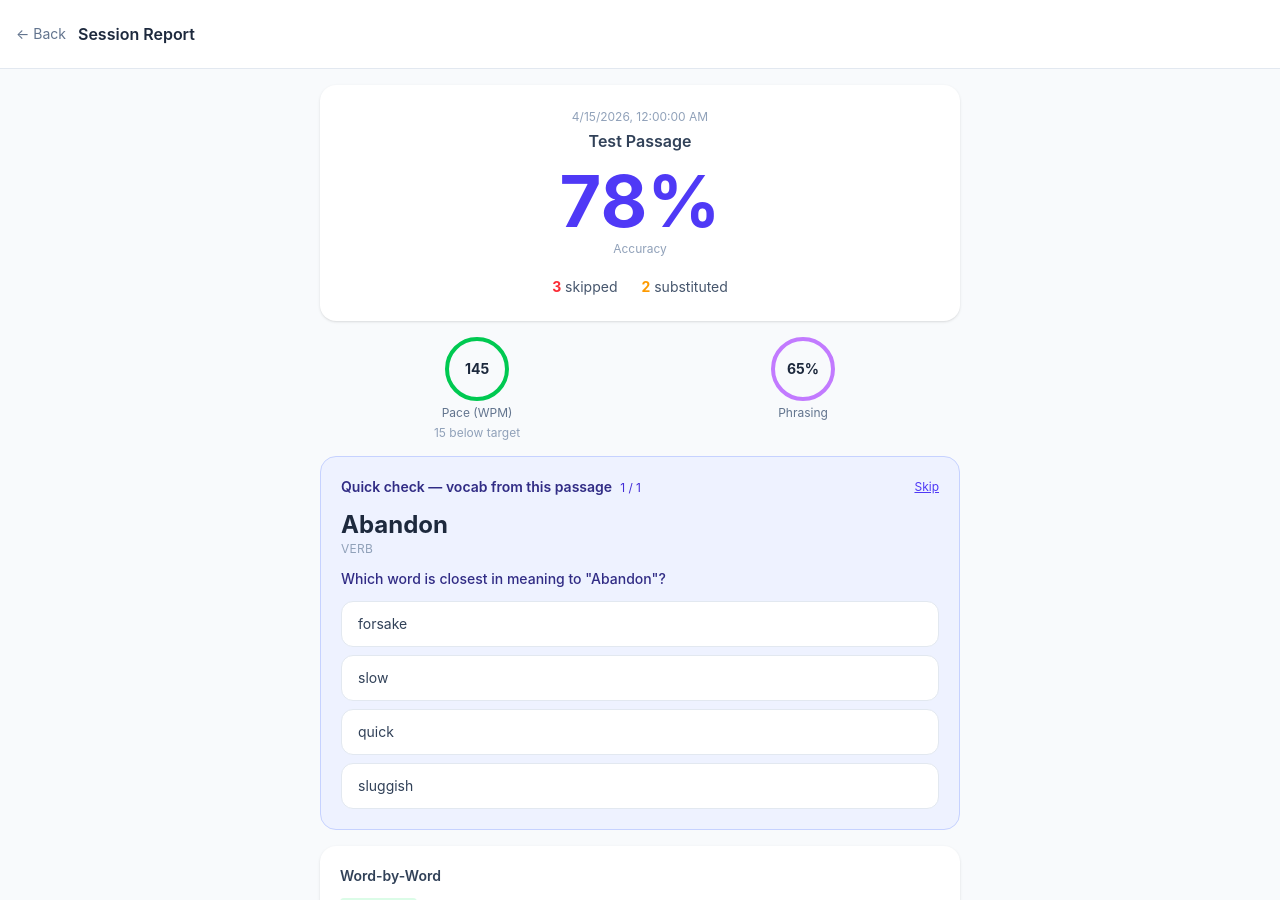
Test: SessionReport — vocab retention quiz › Skip button dismisses the quiz section
Expected: the element with test id "retention-quiz" is shown, [320,456,960,830]
Click the button "Skip" at [927, 487], box [914,479,939,495]
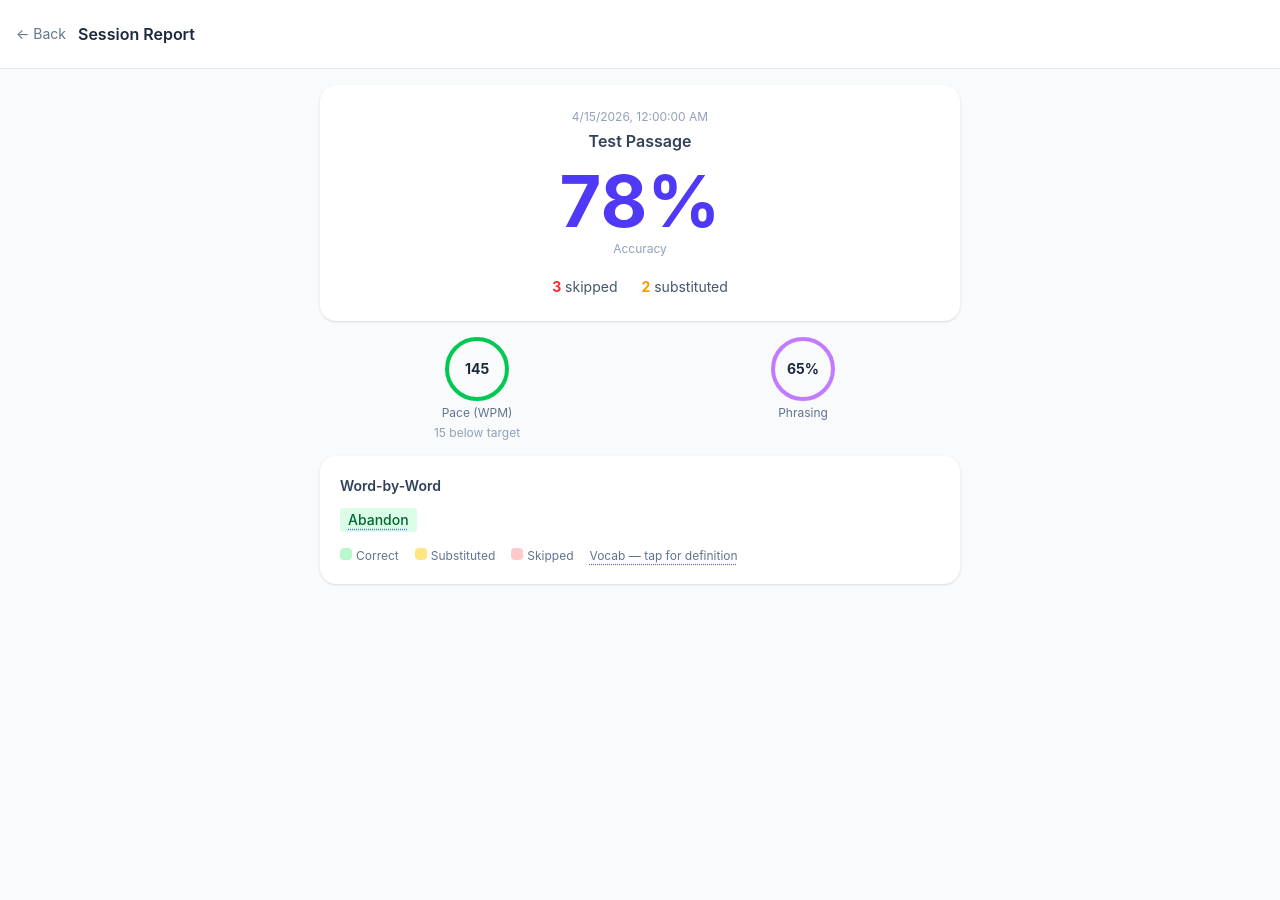
Now the element with test id "retention-quiz" is gone
